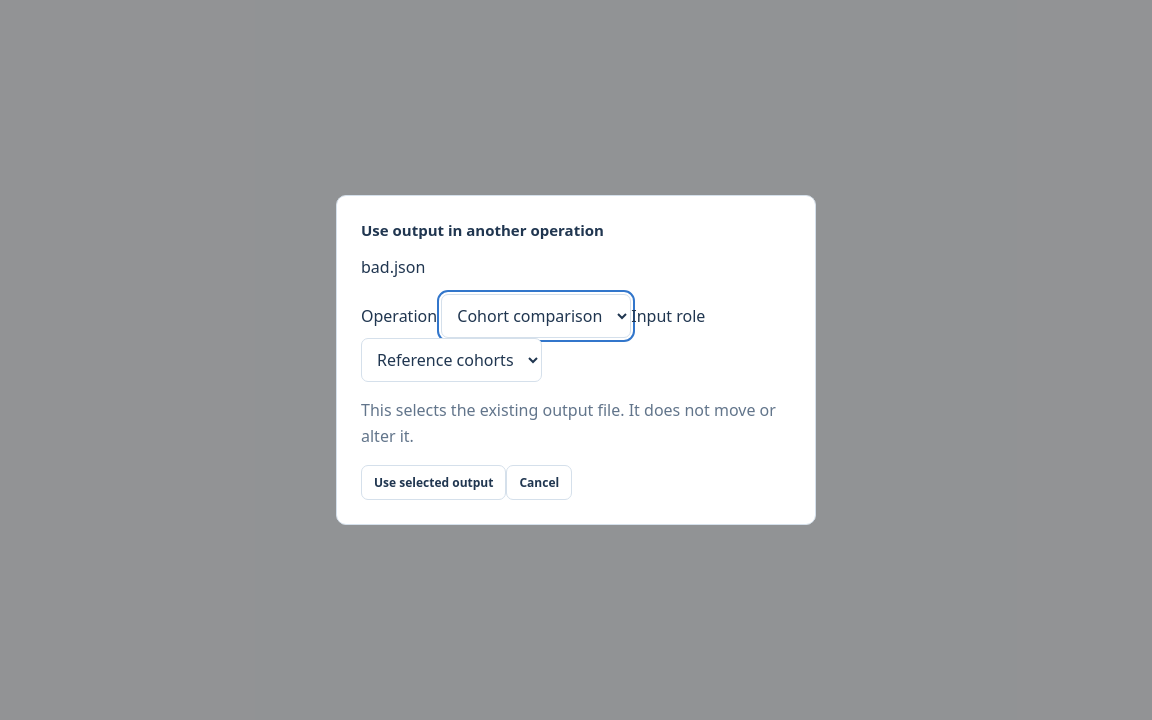
output handoff › keeps the dialog open and shows handoff failures
Click the button "Use selected output" at (434, 483), box [361,465,506,500]
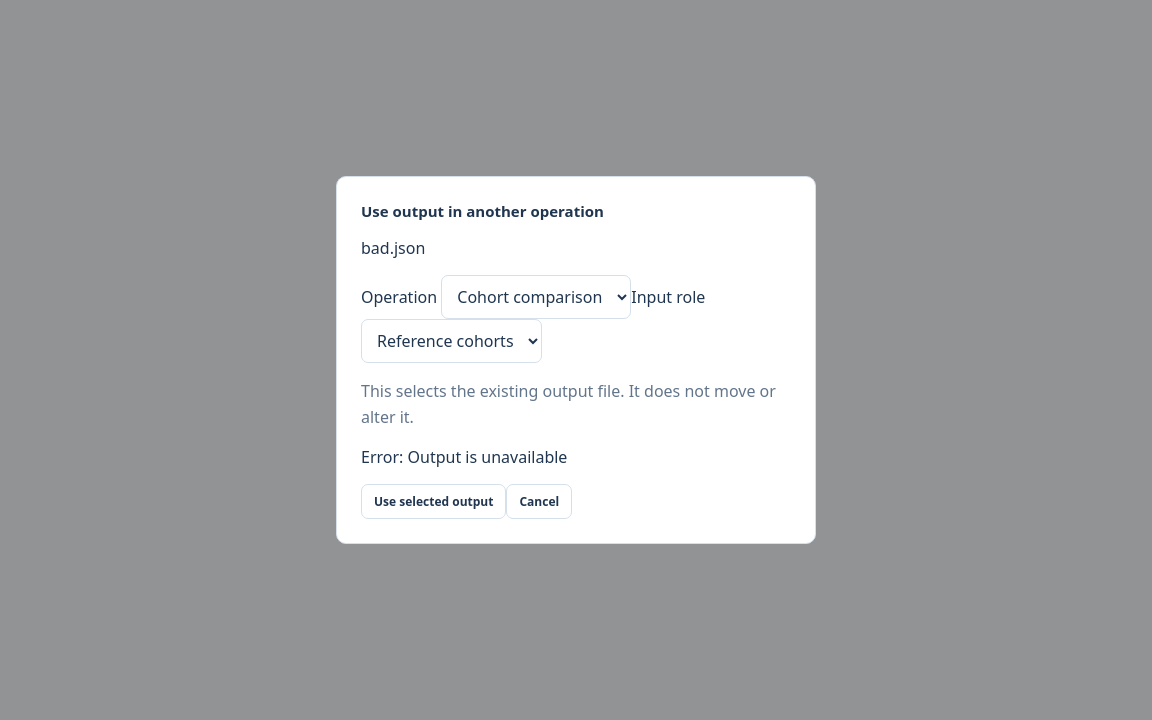
Expected: the dialog is shown, [336,176,816,544]
Expected: the message shows "Output is unavailable", [361,446,567,468]
